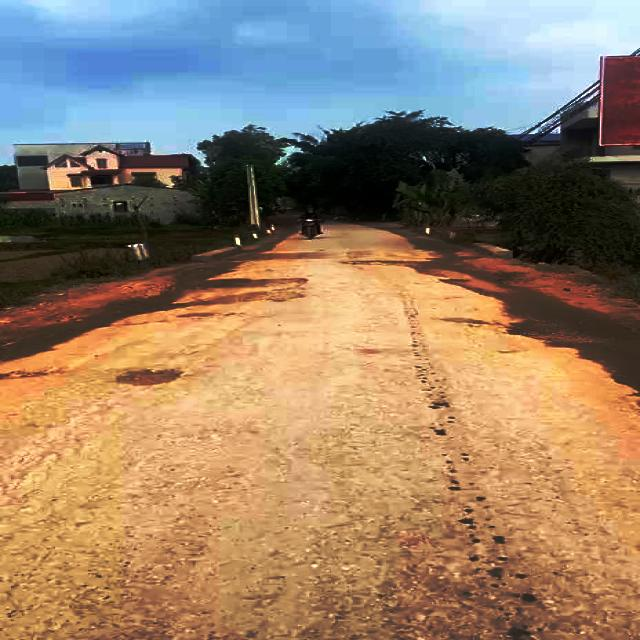pothole: (120, 361, 193, 386)
